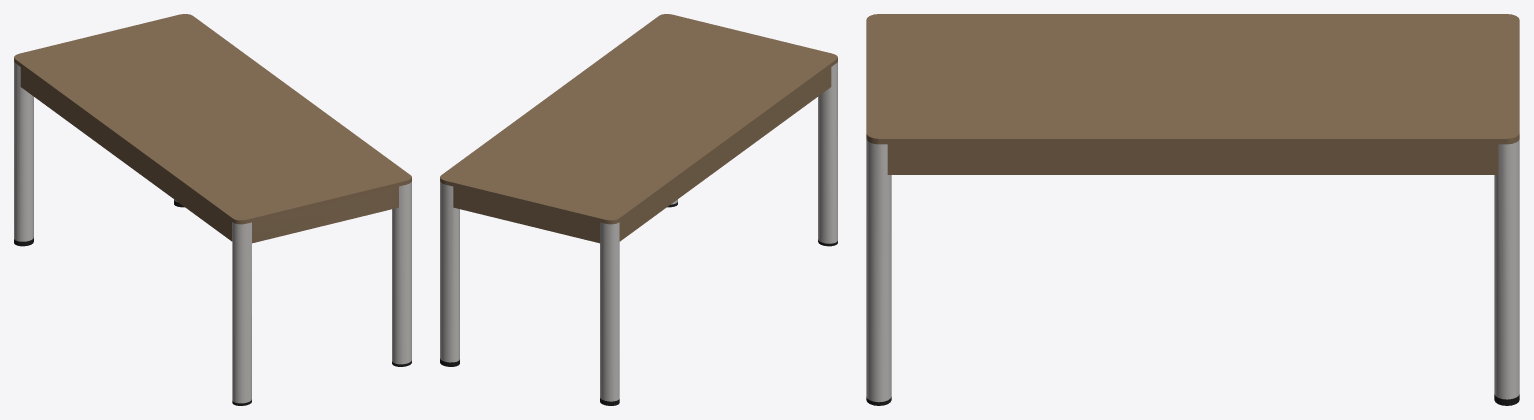
Rendered from Desk1.glb.
3 views of the same model, side by side, from view 1: azimuth 30°, elevation 25°; view 2: azimuth 150°, elevation 25°; view 3: azimuth 270°, elevation 25° (orthographic). The views are drawn at different scales.
Visible parts, largest first — view 1: Cube.003; view 2: Cube.003; view 3: Cube.003.
Part boxes in pixels (x1,y1,x2,y2): Cube.003: (14,14,411,405); Cube.003: (440,14,837,405); Cube.003: (866,14,1519,405).
Bounding box in the file's own units: 0.6843 × 0.6827 × 1.51.
